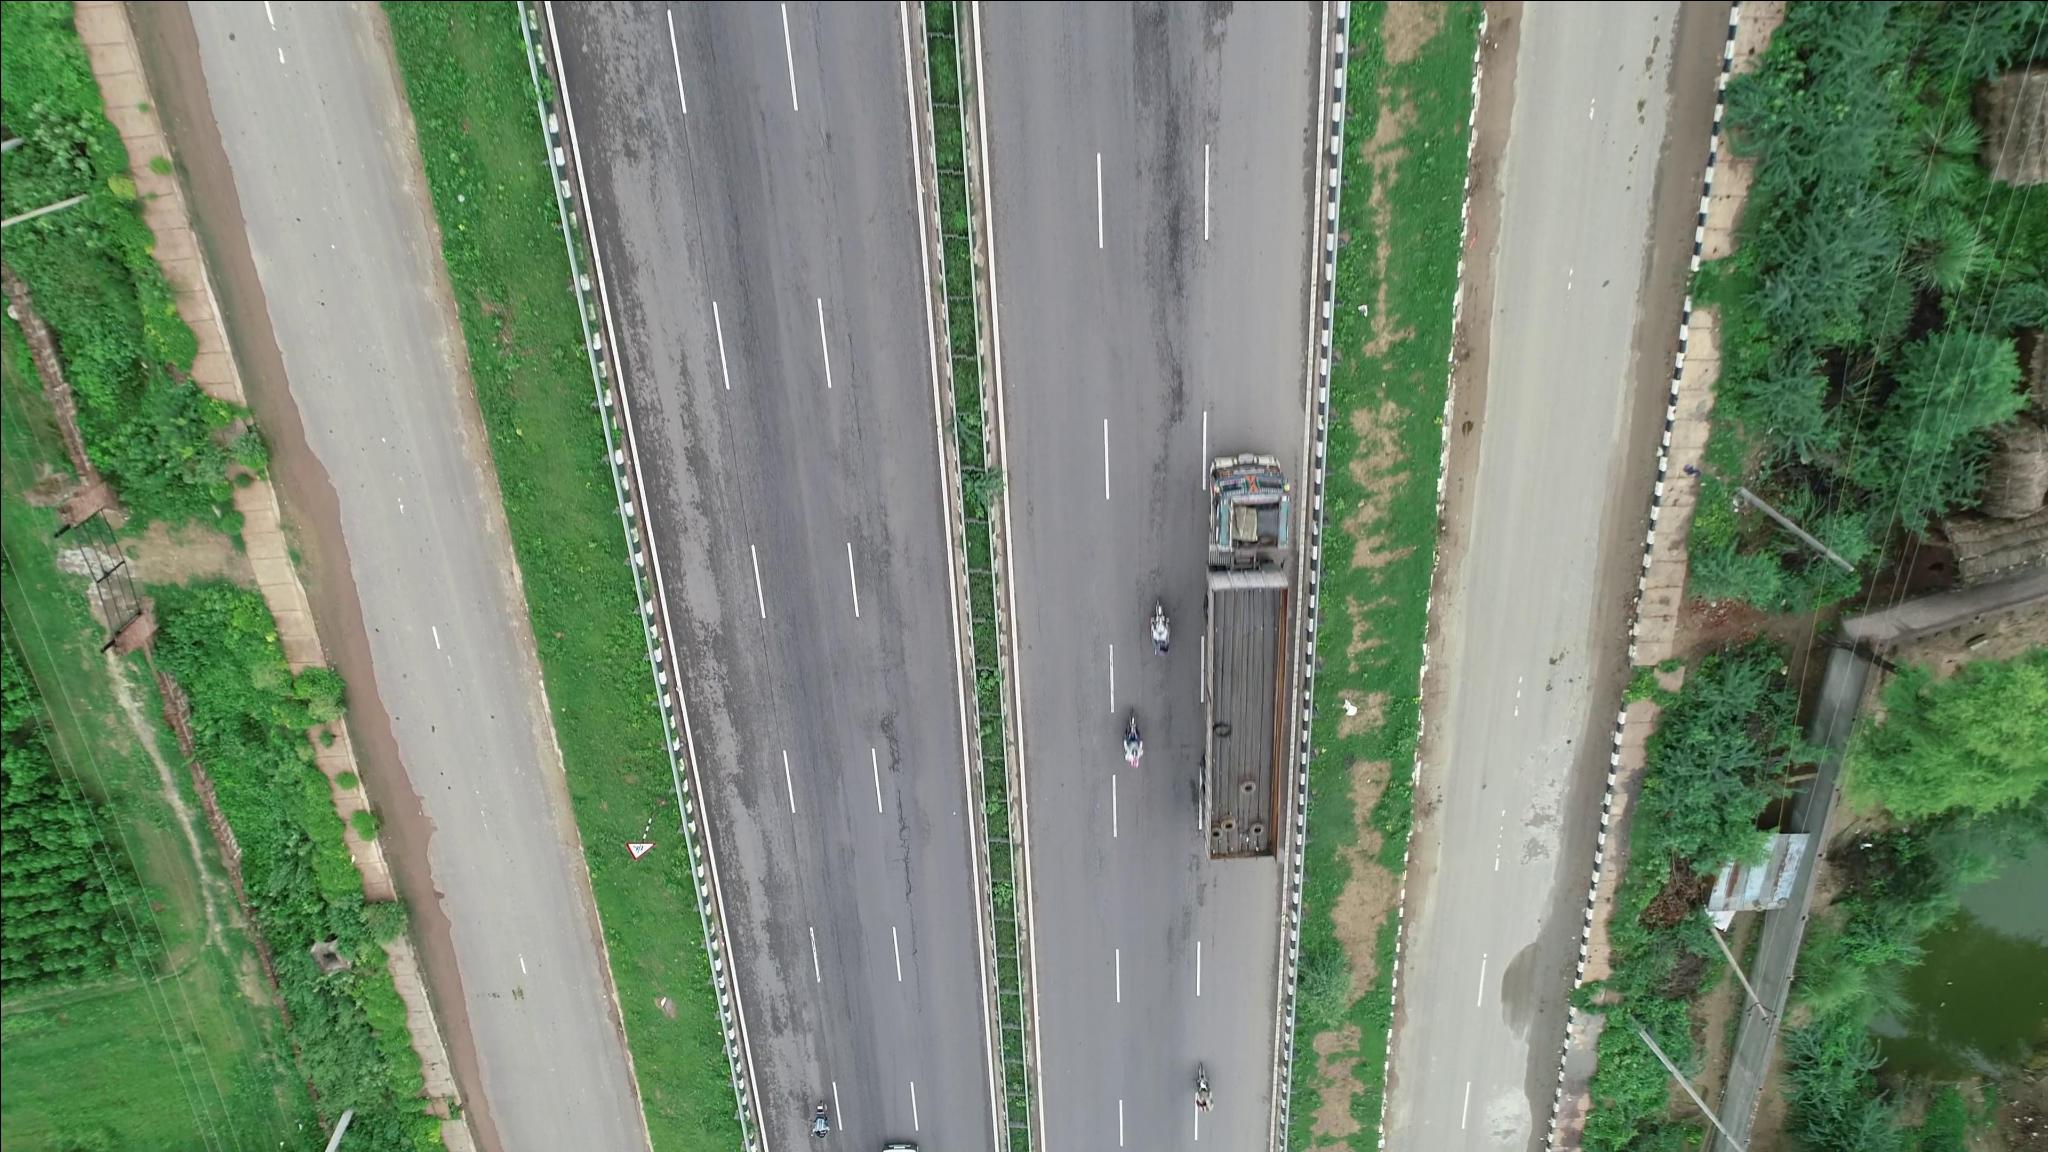Cracks: (866, 708, 926, 964)
Ravelling: (1132, 23, 1201, 426), (667, 354, 743, 585), (695, 596, 767, 799), (733, 838, 800, 1010)
